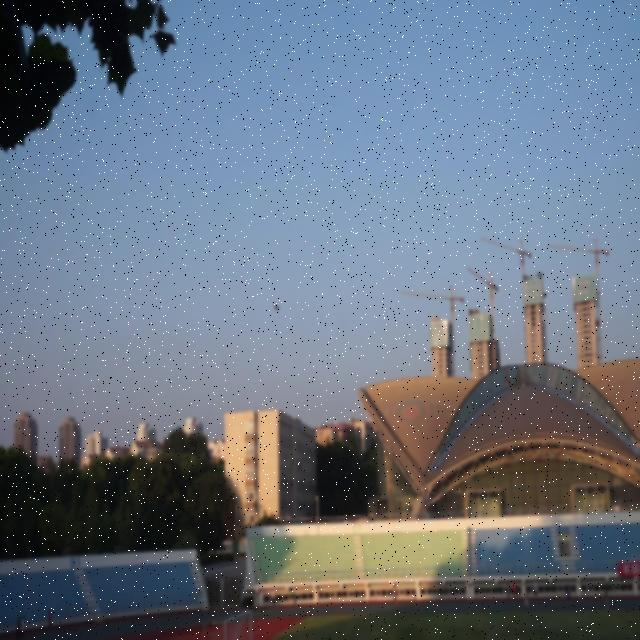UAV: (272, 303, 281, 312)
